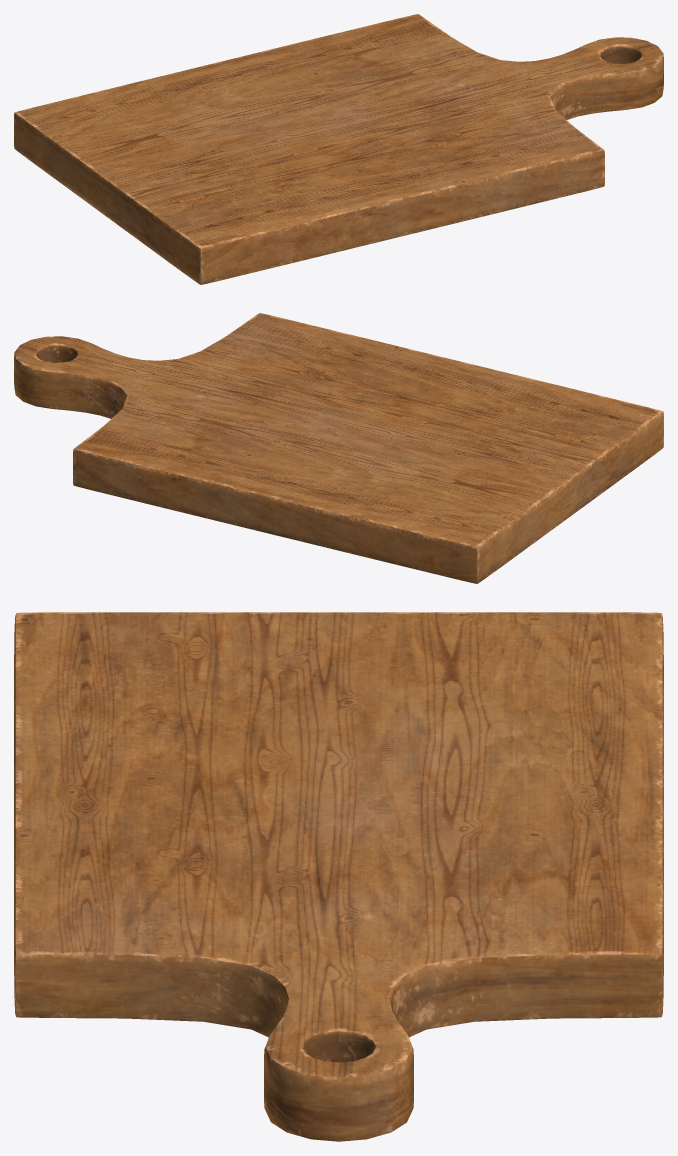
Rendered from cuttingboard.fbx.
3 renders of one model, top to bottom at view 1: azimuth 30°, elevation 25°; view 2: azimuth 150°, elevation 25°; view 3: azimuth 270°, elevation 25°, orthographic. The views are drawn at different scales.
Visible parts, largest first — view 1: cuttingboard_grp; view 2: cuttingboard_grp; view 3: cuttingboard_grp.
Boxes of the visible parts, x1,y1,x2,y2 form: cuttingboard_grp: (14, 14, 663, 284); cuttingboard_grp: (14, 313, 663, 583); cuttingboard_grp: (14, 612, 663, 1141).
Bounding box in the file's own units: 45.86 × 3.06 × 26.97.
